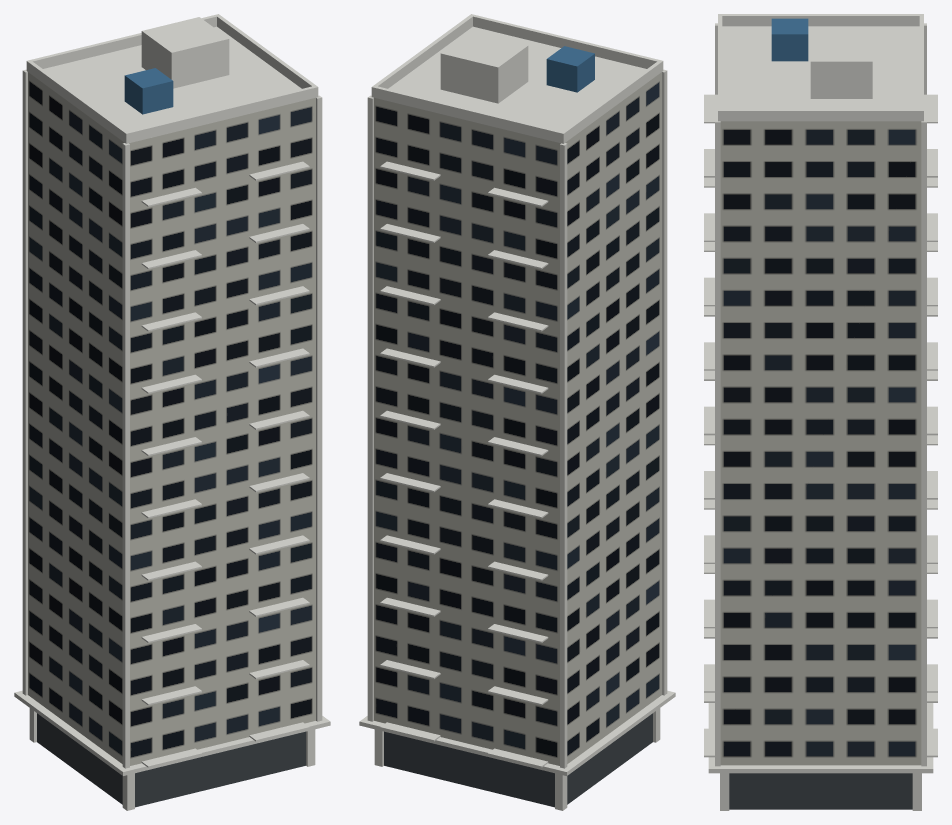
Rendered from predio_2.glb.
3 renders of one model, left to right at view 1: azimuth 30°, elevation 25°; view 2: azimuth 150°, elevation 25°; view 3: azimuth 270°, elevation 25°, orthographic. The views are drawn at different scales.
Parts seen in each view (by area): view 1: fachada, con, ter, cx; view 2: fachada, con, ter, cx; view 3: fachada, con, ter, cx.
Boxes of the visible parts, bbox=[...] form: fachada: bbox=[28, 72, 315, 765]; con: bbox=[14, 14, 330, 810]; ter: bbox=[37, 713, 305, 807]; cx: bbox=[124, 68, 173, 114]; fachada: bbox=[374, 72, 661, 765]; con: bbox=[359, 14, 675, 810]; ter: bbox=[384, 713, 652, 807]; cx: bbox=[546, 46, 594, 92]; fachada: bbox=[720, 121, 921, 765]; con: bbox=[704, 14, 937, 810]; ter: bbox=[729, 773, 912, 809]; cx: bbox=[771, 18, 808, 61].
Size of the model in its own units: 21.6 by 70.1 by 20.4.
4 materials, 1 textured.
